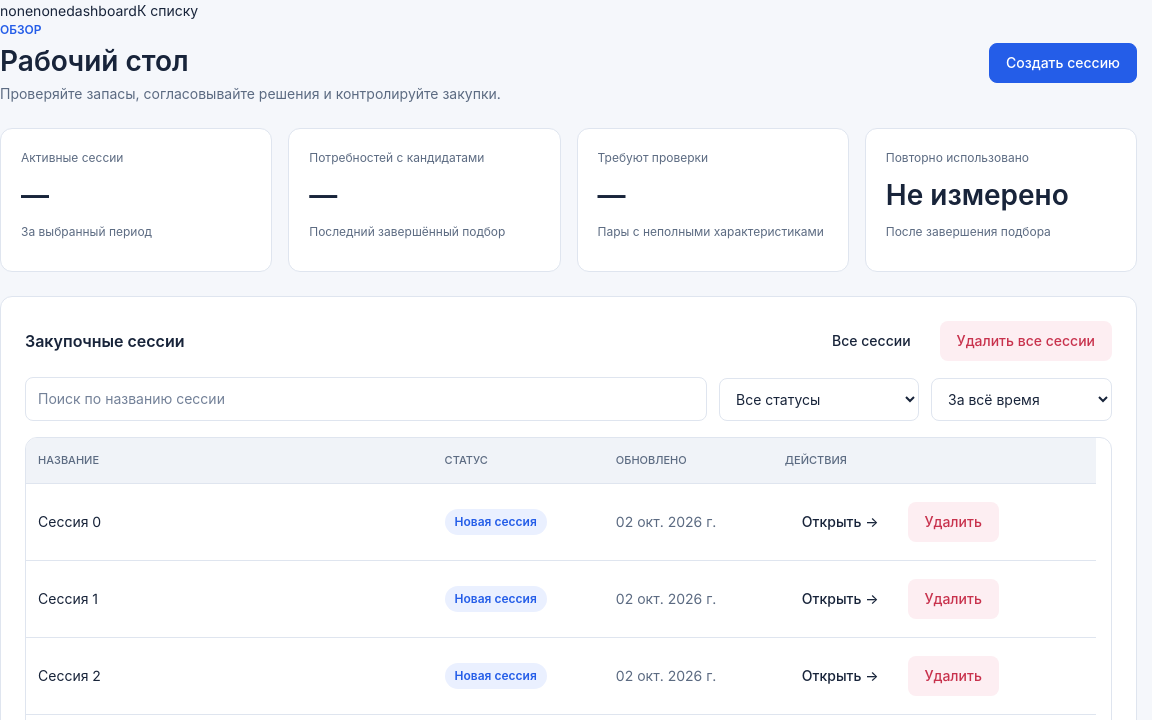
it: session deletion › requires confirmation and cancellation does not send DELETE
Click the button with aria-label "Удалить сессию «Сессия 0»": point(953, 522) [908,502,999,542]
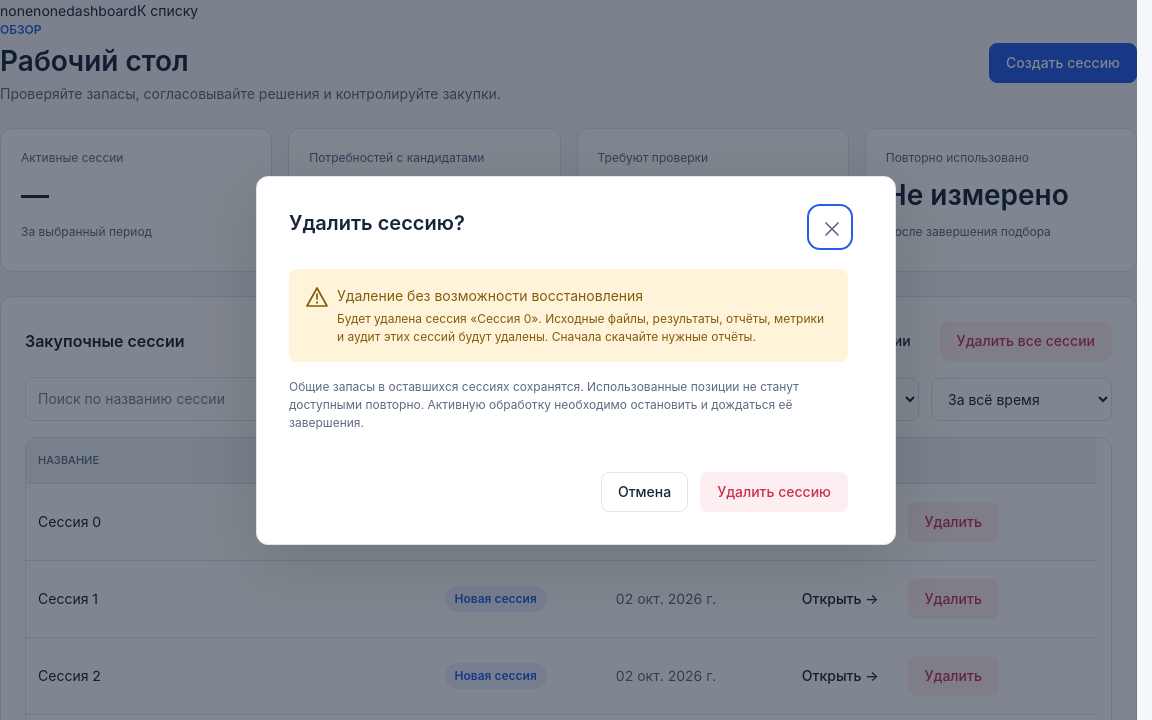
Expected: the text "Будет удалена сессия «Сессия 0»" is shown, [337,310,542,326]
Click the button "Отмена": point(644, 492) [601,472,688,512]
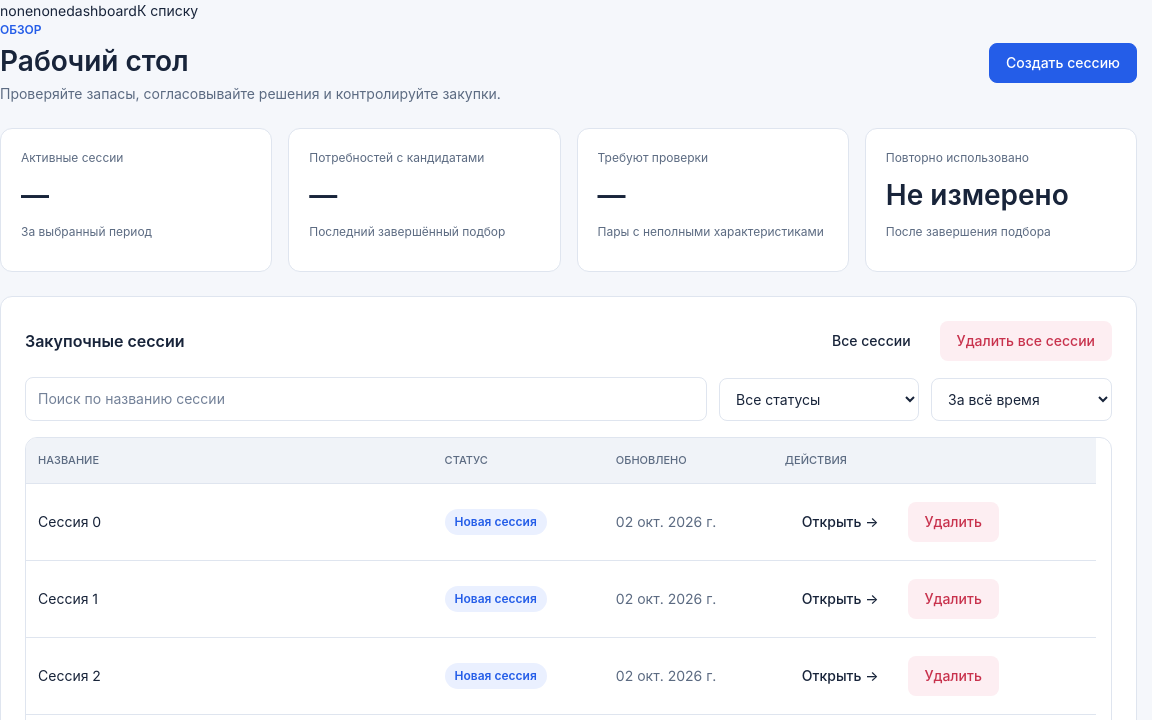
Expected: the dialog is gone
